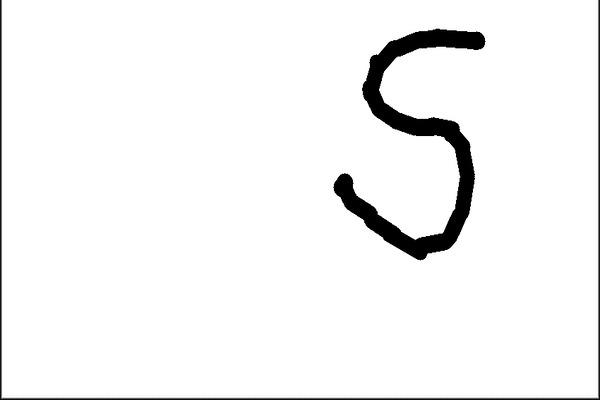S: (322, 27, 495, 264)
